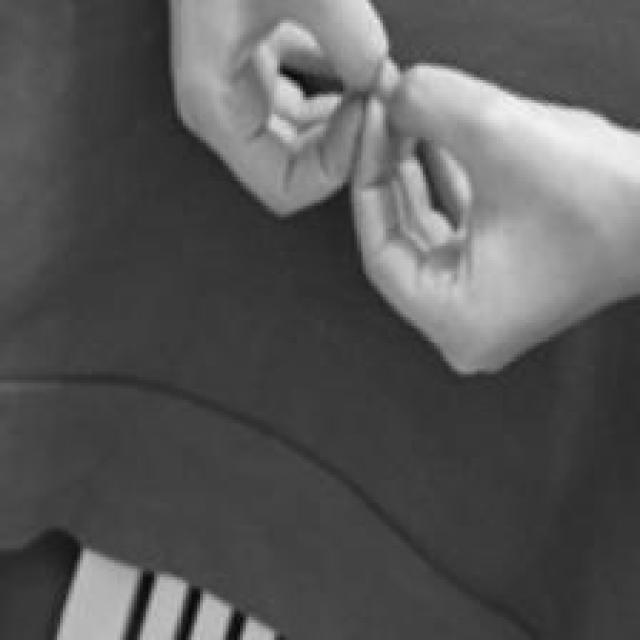B: (170, 1, 640, 374)
